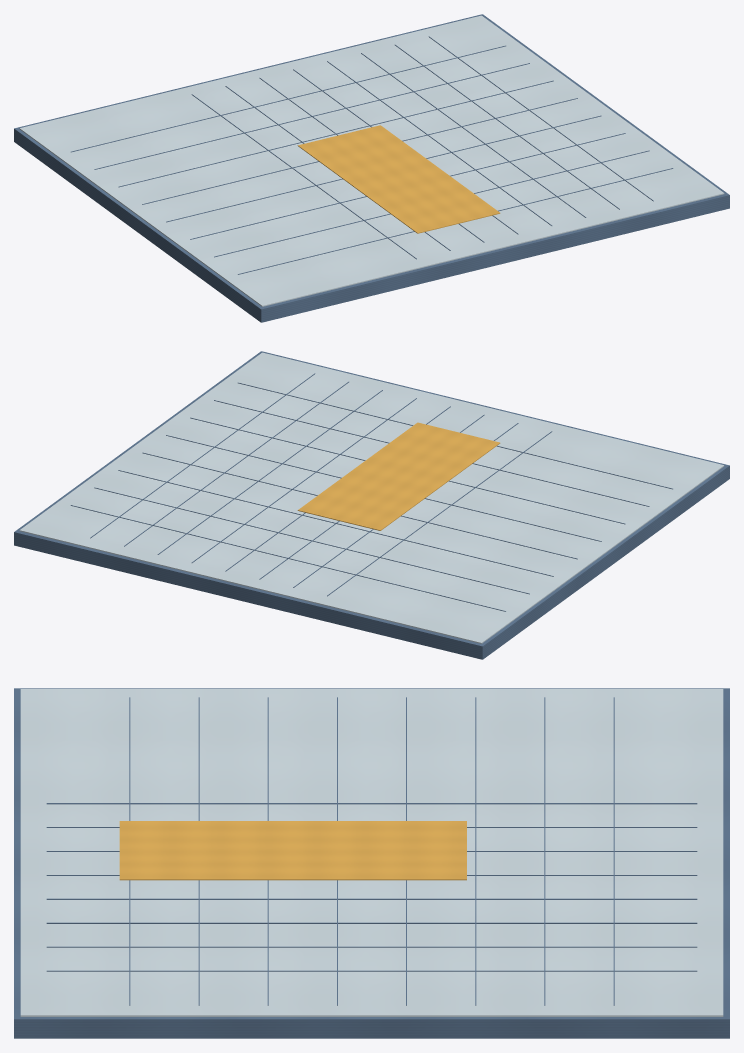
File: atlas100-s055-a07.lod1.glb
The picture shows the model from 3 angles, top to bottom: view 1: azimuth 30°, elevation 25°; view 2: azimuth 150°, elevation 25°; view 3: azimuth 270°, elevation 25°; orthographic projection. The views are drawn at different scales.
Visible parts, largest first — view 1: atlas100-s055-a07:part-001, atlas100-s055-a07:part-000, atlas100-s055-a07:part-021, atlas100-s055-a07:part-015, atlas100-s055-a07:part-013, atlas100-s055-a07:part-014, atlas100-s055-a07:part-017, atlas100-s055-a07:part-019, atlas100-s055-a07:part-016, atlas100-s055-a07:part-018, atlas100-s055-a07:part-020; view 2: atlas100-s055-a07:part-001, atlas100-s055-a07:part-000, atlas100-s055-a07:part-021, atlas100-s055-a07:part-013, atlas100-s055-a07:part-015, atlas100-s055-a07:part-014, atlas100-s055-a07:part-016, atlas100-s055-a07:part-018, atlas100-s055-a07:part-017, atlas100-s055-a07:part-019, atlas100-s055-a07:part-020; view 3: atlas100-s055-a07:part-001, atlas100-s055-a07:part-000, atlas100-s055-a07:part-021, atlas100-s055-a07:part-009, atlas100-s055-a07:part-011, atlas100-s055-a07:part-012, atlas100-s055-a07:part-005, atlas100-s055-a07:part-010, atlas100-s055-a07:part-015, atlas100-s055-a07:part-013, atlas100-s055-a07:part-014.
Part boxes in pixels (x1,y1,x2,y2): atlas100-s055-a07:part-001: (19,15,724,306); atlas100-s055-a07:part-000: (14,14,729,322); atlas100-s055-a07:part-021: (297,125,500,233); atlas100-s055-a07:part-015: (118,80,553,187); atlas100-s055-a07:part-013: (71,45,505,152); atlas100-s055-a07:part-014: (94,63,529,169); atlas100-s055-a07:part-017: (166,115,601,222); atlas100-s055-a07:part-019: (214,150,649,257); atlas100-s055-a07:part-016: (142,98,577,204); atlas100-s055-a07:part-018: (190,133,625,239); atlas100-s055-a07:part-020: (238,168,673,274); atlas100-s055-a07:part-001: (19,352,724,643); atlas100-s055-a07:part-000: (14,351,729,659); atlas100-s055-a07:part-021: (297,422,500,530); atlas100-s055-a07:part-013: (70,505,505,611); atlas100-s055-a07:part-015: (118,470,553,576); atlas100-s055-a07:part-014: (94,487,529,594); atlas100-s055-a07:part-016: (142,452,577,559); atlas100-s055-a07:part-018: (190,417,625,524); atlas100-s055-a07:part-017: (166,435,601,541); atlas100-s055-a07:part-019: (214,400,649,506); atlas100-s055-a07:part-020: (238,382,672,489); atlas100-s055-a07:part-001: (20,689,723,1016); atlas100-s055-a07:part-000: (14,688,729,1038); atlas100-s055-a07:part-021: (119,821,466,880); atlas100-s055-a07:part-009: (46,898,697,899); atlas100-s055-a07:part-011: (46,946,697,947); atlas100-s055-a07:part-012: (46,970,697,971); atlas100-s055-a07:part-005: (46,803,697,804); atlas100-s055-a07:part-010: (46,922,697,923); atlas100-s055-a07:part-015: (475,697,476,1005); atlas100-s055-a07:part-013: (613,697,614,1005); atlas100-s055-a07:part-014: (544,697,545,1005).
Size of the model in its own units: 12.46 by 0.404 by 11.39.
Materials: 3 (3 with a texture image).
